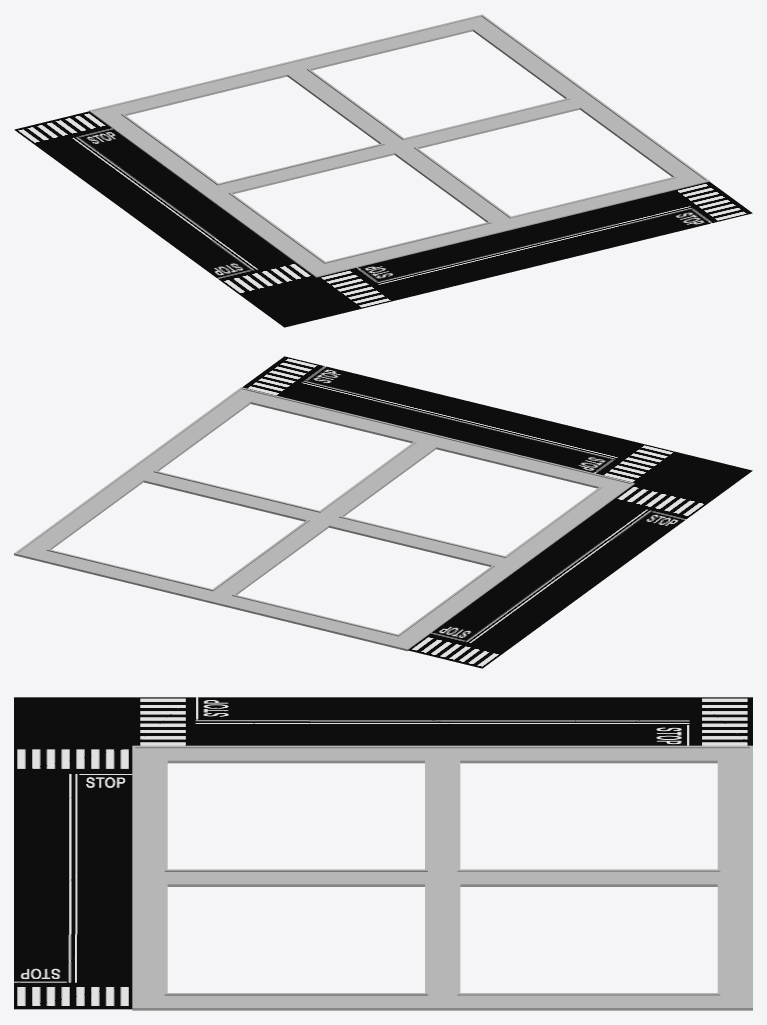
Rendered from Street_03.fbx.
The picture shows the model from 3 angles, top to bottom: view 1: azimuth 30°, elevation 25°; view 2: azimuth 150°, elevation 25°; view 3: azimuth 270°, elevation 25°; orthographic projection. The views are drawn at different scales.
Visible parts, largest first — view 1: road, sidewalk; view 2: road, sidewalk; view 3: road, sidewalk.
Part boxes in pixels (<box>): road: <box>14,111,752,327</box>; sidewalk: <box>89,14,709,277</box>; road: <box>242,356,752,668</box>; sidewalk: <box>14,387,634,651</box>; road: <box>14,697,752,1009</box>; sidewalk: <box>132,745,752,1010</box>.
Size of the model in its own units: 5000 by 20 by 5000.
